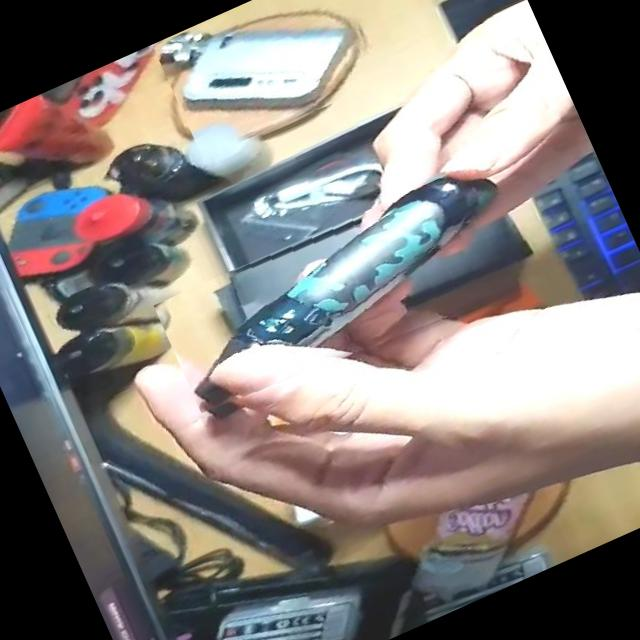Hazard: (152, 158, 540, 428), (152, 0, 387, 162)
